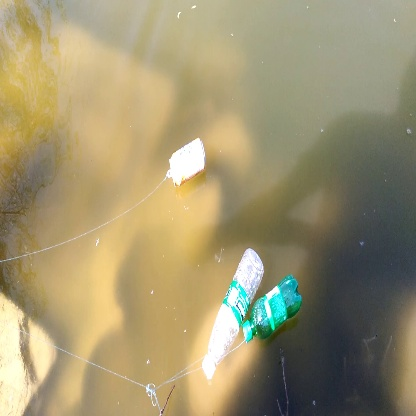bottle: (201, 245, 266, 381)
